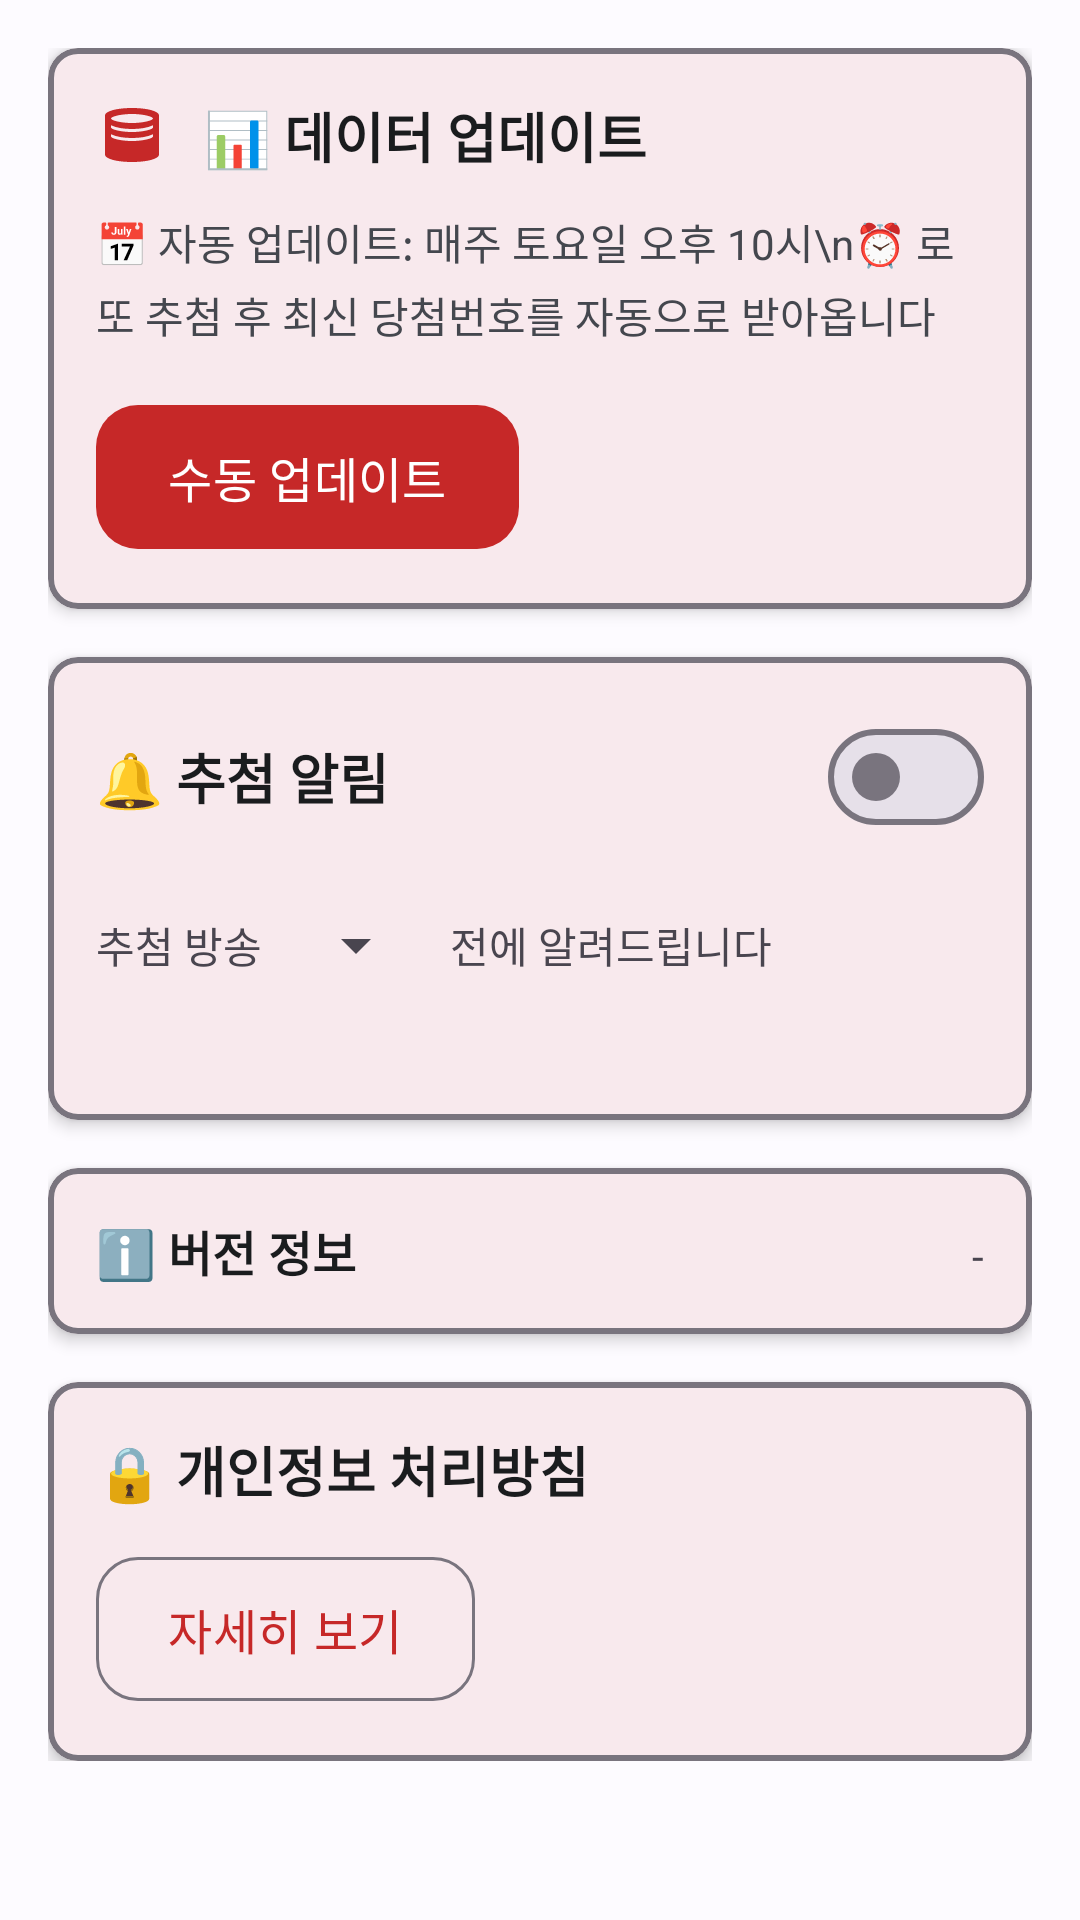

Icon bounding boxes for this 1080×1920 phone screenshot, format [x1=x1, y1=y1, x2=x2, y2=y2]:
database: [x1=105, y1=108, x2=159, y2=162]
